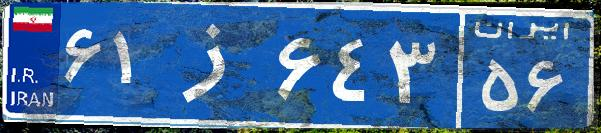1: (110, 28, 158, 105)
3: (385, 28, 445, 110)
4: (330, 28, 385, 110)
5: (475, 38, 525, 113)
6: (273, 28, 330, 110), (57, 26, 110, 107), (525, 38, 570, 115)
ز: (158, 15, 273, 115)
